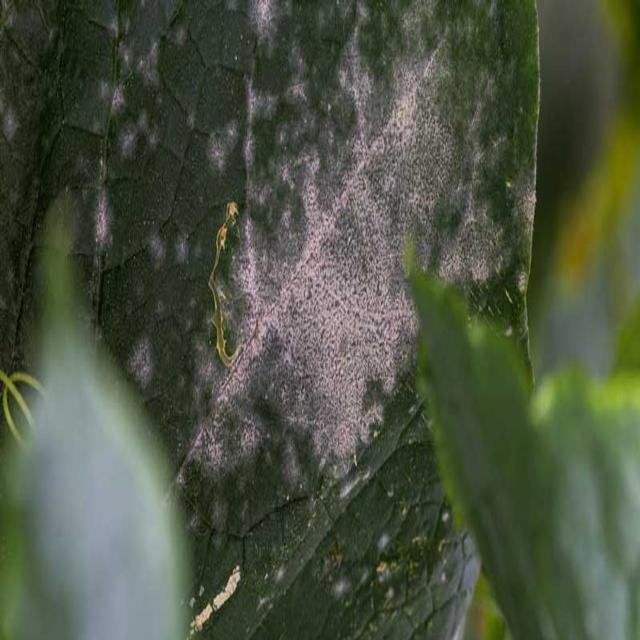Powdery Mildew: (167, 21, 475, 488)
